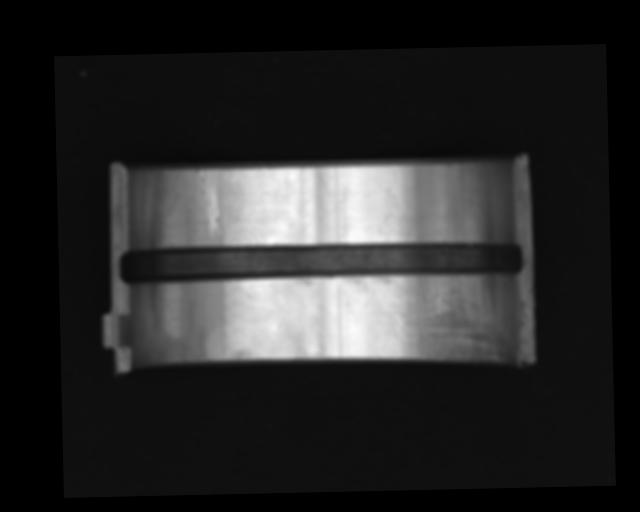gap: (118, 240, 523, 286)
nick: (197, 167, 222, 239)
scratch: (376, 273, 508, 367)
